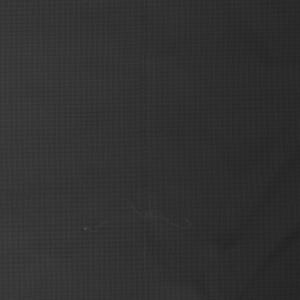Wrinkle: (164, 131, 300, 300), (195, 1, 300, 80)
